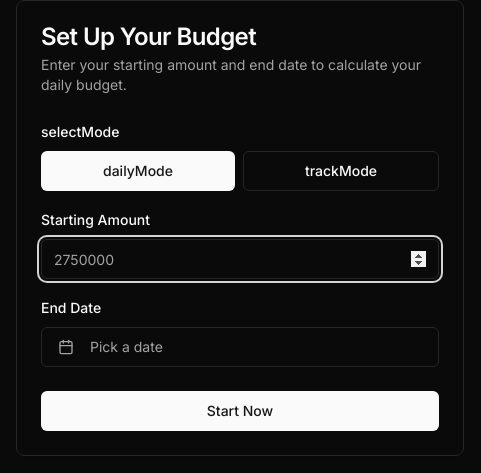
Test: SetupForm › Amount input behavior › should handle negative numbers by converting to Int
Note: Enter negative number
Clear the number field labelled "Starting Amount" at (240, 259), box [41, 239, 439, 279]
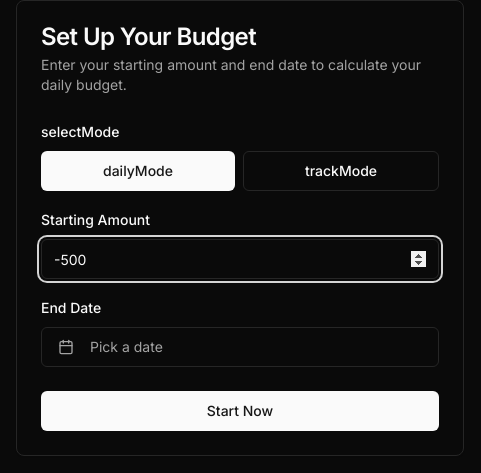
Expected: the number field labelled "Starting Amount" holds "-500", [41, 239, 439, 279]
